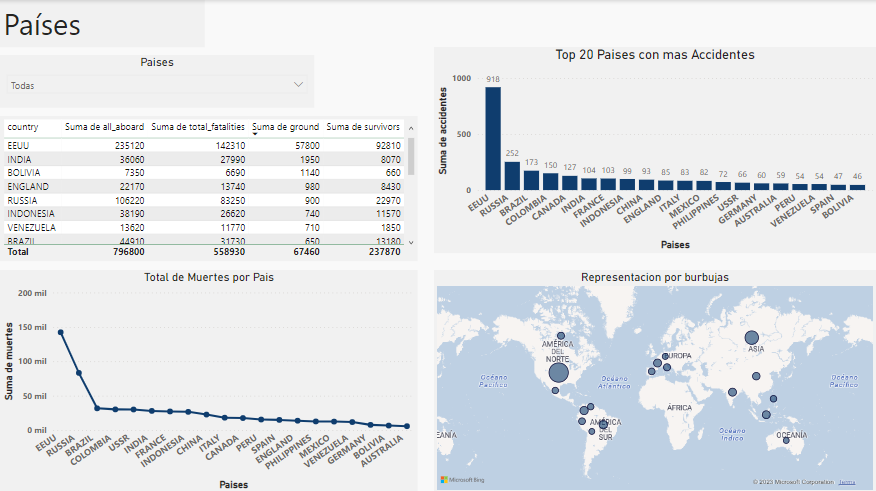

What the dashboard file says about the page in this screenshot:
{"tool":"powerbi","page":{"name":"Pais","canvas":[1280,720],"ordinal":2},"visuals":[{"type":"clusteredColumnChart","title":"Top 20 Paises con mas Accidentes ","fields":{"Category":["paises.country"],"Y":["Sum(paises.accidentes)"]},"box":[633.8,68.6,645.5,300.9],"z":0},{"type":"lineChart","title":"Total de Muertes por Pais","fields":{"Category":["paises.country"],"Y":["Sum(paises.total_fatalities)"]},"box":[0,394.3,610.5,325.7],"z":1000},{"type":"map","title":"Representacion por burbujas","fields":{"Category":["paises.country"],"Size":["Sum(paises.total_fatalities)"]},"box":[633.8,394.3,645.5,325.7],"z":2000},{"type":"slicer","title":"Paises","fields":{"Values":["paises.country"]},"box":[0,80.3,458.6,77.4],"z":3000},{"type":"tableEx","fields":{"Values":["paises.country","Sum(paises.all_aboard)","Sum(paises.total_fatalities)","Sum(paises.ground)","Sum(paises.survivors)"]},"box":[0,169.4,610.5,211.8],"z":4000},{"type":"textbox","box":[0,0,299.4,68.6],"z":5000}]}

Visuals, with their boxes in screenshot pixels (x1, y1, x2, y2), scaled from the page's 1280x720 canvas onto the 876x491 screenshot:
"Top 20 Paises con mas Accidentes " clusteredColumnChart: (x1=434, y1=47, x2=875, y2=252)
"Total de Muertes por Pais" lineChart: (x1=0, y1=269, x2=418, y2=490)
"Representacion por burbujas" map: (x1=434, y1=269, x2=875, y2=490)
"Paises" slicer: (x1=0, y1=55, x2=314, y2=108)
tableEx - paises.country x Sum(paises.all_aboard): (x1=0, y1=116, x2=418, y2=260)
textbox: (x1=0, y1=0, x2=205, y2=47)
